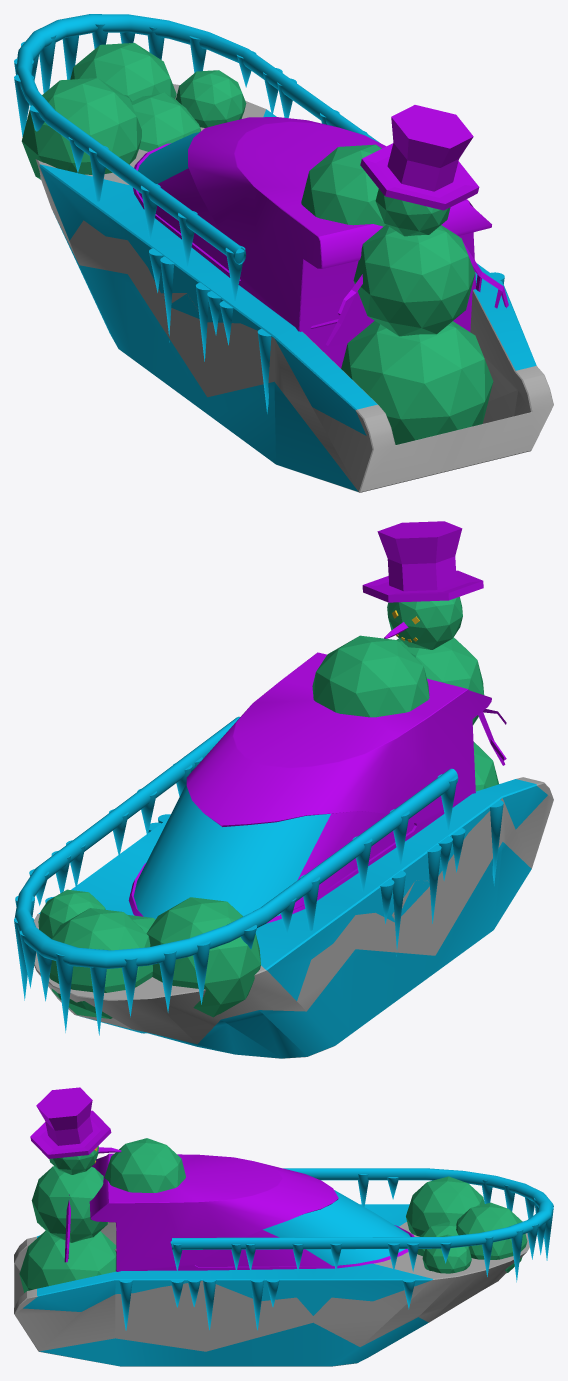
File: frozen_05.fbx
The picture shows the model from 3 angles, top to bottom: view 1: azimuth 30°, elevation 25°; view 2: azimuth 150°, elevation 25°; view 3: azimuth 270°, elevation 25°; orthographic projection. The views are drawn at different scales.
Visible parts, largest first — view 1: polySurface6647; view 2: polySurface6647; view 3: polySurface6647.
Part boxes in pixels (left/top/right/bottom): polySurface6647: left=14, top=14, right=553, bottom=492; polySurface6647: left=14, top=521, right=553, bottom=1058; polySurface6647: left=14, top=1087, right=553, bottom=1366.
Bounding box in the file's own units: 106 × 144 × 300.
